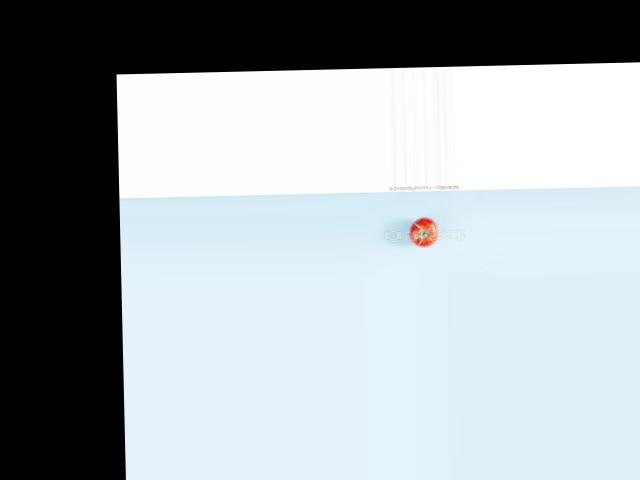tomato: (409, 215, 438, 247)
